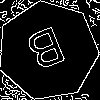B: (23, 26, 72, 81)
